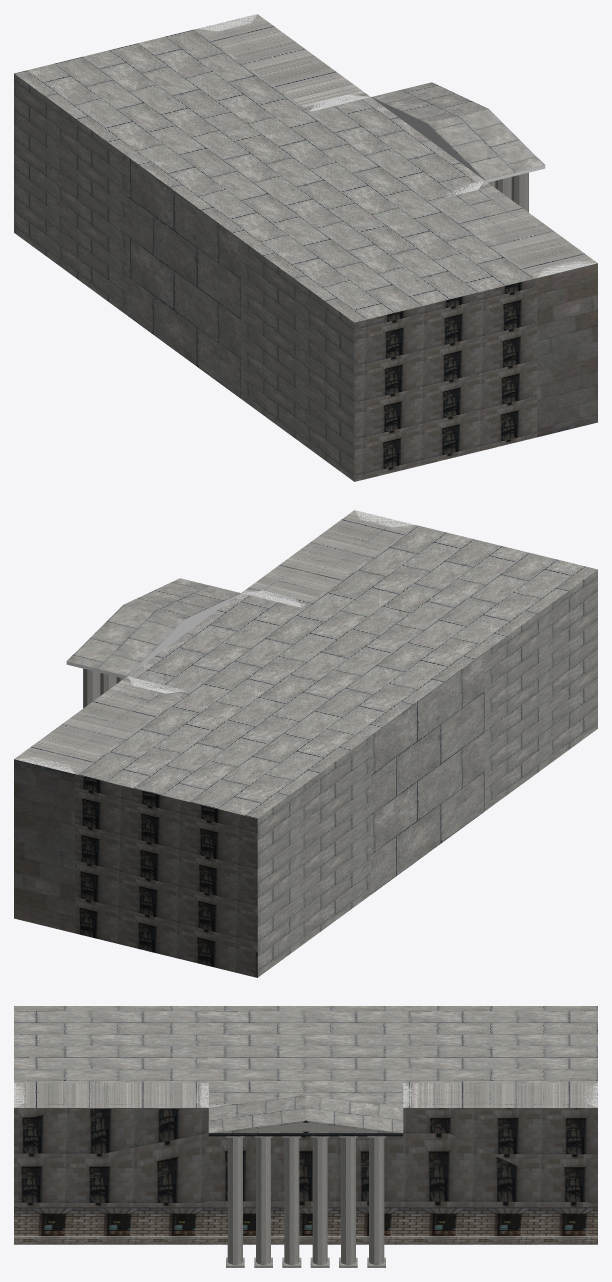
The model's file is GPO.gltf.
The picture shows the model from 3 angles, top to bottom: view 1: azimuth 30°, elevation 25°; view 2: azimuth 150°, elevation 25°; view 3: azimuth 270°, elevation 25°; orthographic projection. The views are drawn at different scales.
Parts seen in each view (by area): view 1: Cube; view 2: Cube; view 3: Cube, pillar.003, pillar.002, pillar.005, pillar.006, pillar.004, pillar.001.
Boxes of the visible parts, left/top/right/bottom form: Cube: left=14, top=14, right=597, bottom=481; Cube: left=14, top=510, right=597, bottom=977; Cube: left=14, top=1006, right=597, bottom=1244; pillar.003: left=310, top=1135, right=329, bottom=1267; pillar.002: left=282, top=1136, right=301, bottom=1267; pillar.005: left=367, top=1135, right=385, bottom=1267; pillar.006: left=226, top=1136, right=244, bottom=1267; pillar.004: left=339, top=1135, right=357, bottom=1267; pillar.001: left=254, top=1136, right=272, bottom=1267.
Bounding box in the file's own units: 32 × 17.5 × 62.
Materials: 10 (9 with a texture image).
